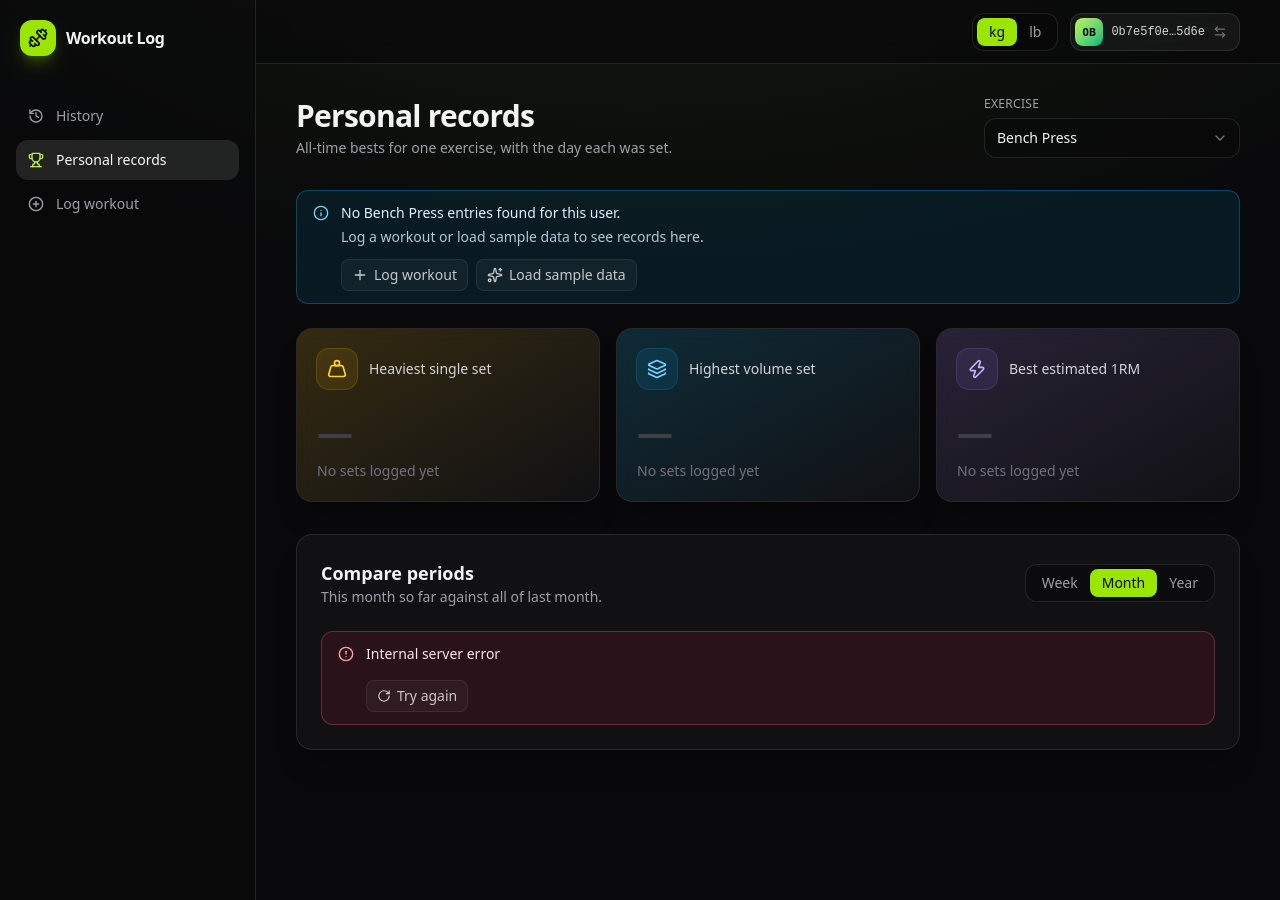
Test case: ComparisonPanel › offers Try again when the comparison fails
The image size is (1280, 900).
Expected: the message "Internal server error Try again" is shown, [321, 631, 1215, 725]
What coordinates should you click on to do the following:
click the button "Try again"
I would click on:
 (417, 696)
Its box is [366, 680, 468, 712].
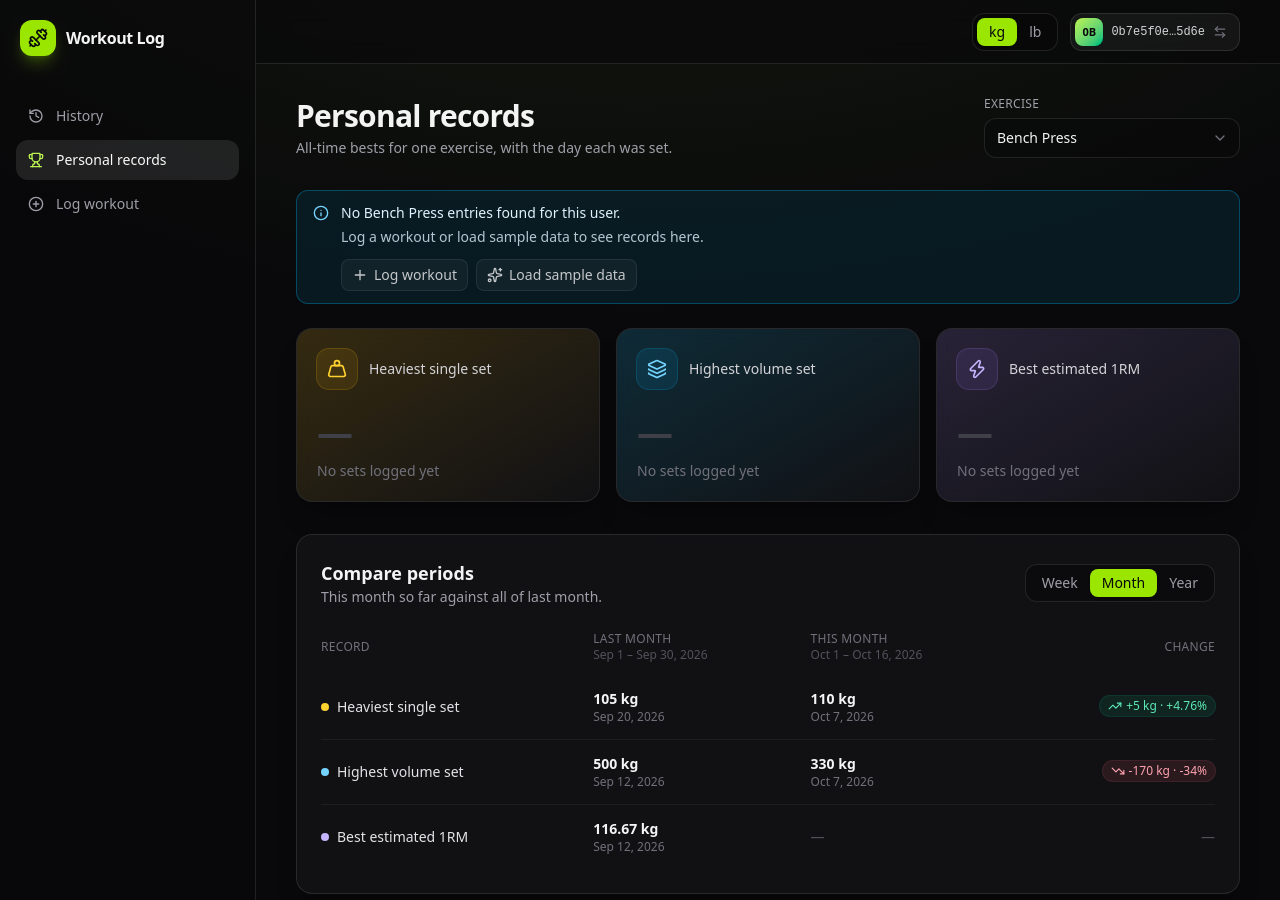
Result: the table is shown at [321, 631, 1215, 869]
